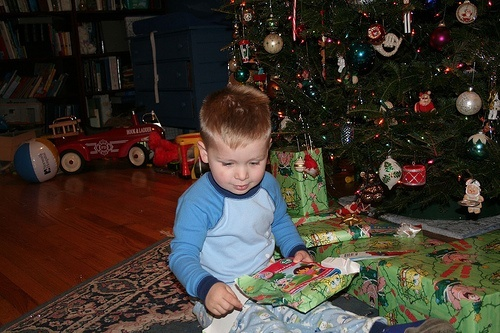head: (197, 83, 274, 196)
person: (168, 82, 320, 330)
